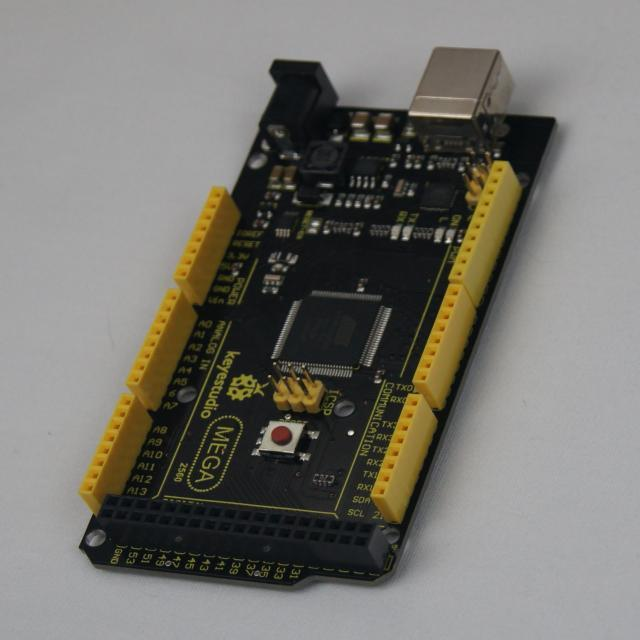Arduino Mega 2560 -Yellow-: (81, 49, 555, 585)
